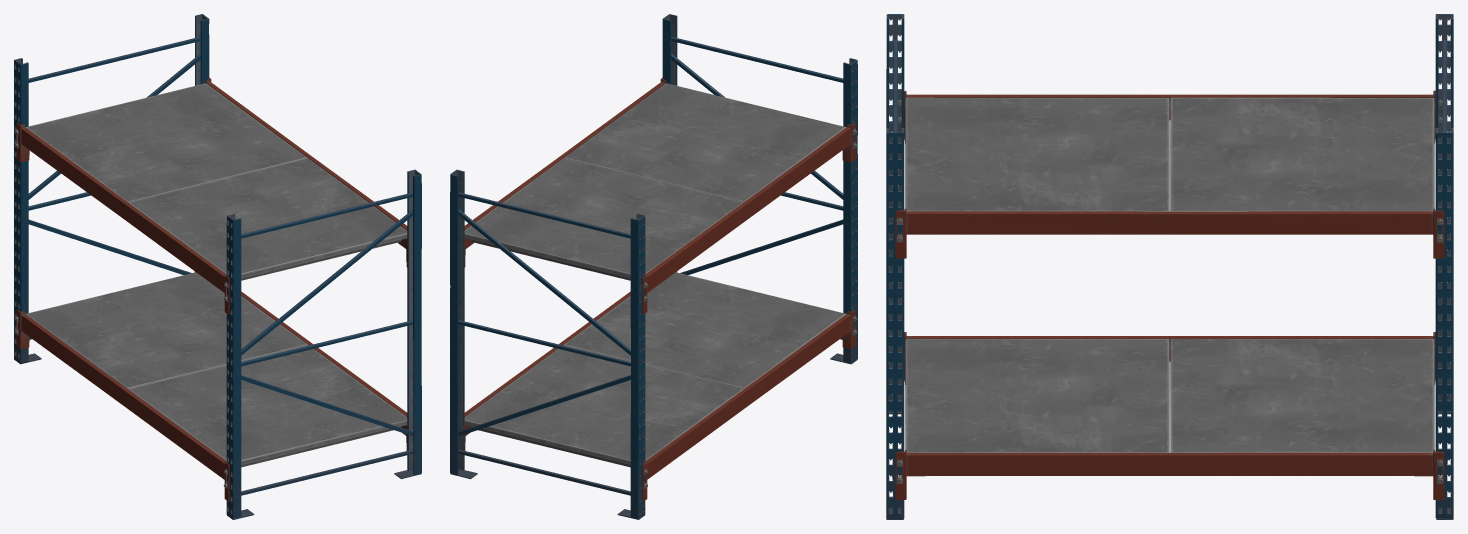
File: RackLargeEmpty_A1.glb
The picture shows the model from 3 angles, left to right: view 1: azimuth 30°, elevation 25°; view 2: azimuth 150°, elevation 25°; view 3: azimuth 270°, elevation 25°; orthographic projection. The views are drawn at different scales.
Parts seen in each view (by area): view 1: Shelf_1003, Shelf_1001, Shelf_1002; view 2: Shelf_1003, Shelf_1001, Shelf_1002; view 3: Shelf_1003, Shelf_1002, Shelf_1001.
Part boxes in pixels (x1,y1,x2,y2): Shelf_1003: [25, 83, 407, 467]; Shelf_1001: [14, 14, 421, 519]; Shelf_1002: [14, 78, 407, 501]; Shelf_1003: [464, 83, 846, 467]; Shelf_1001: [450, 14, 857, 519]; Shelf_1002: [464, 78, 857, 501]; Shelf_1003: [905, 97, 1434, 452]; Shelf_1002: [895, 90, 1444, 499]; Shelf_1001: [886, 14, 1453, 519].
Size of the model in its own units: 2.07 by 3.01 by 4.
Materials: 3 (3 with a texture image).
